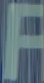Parking: (4, 1, 40, 79)
